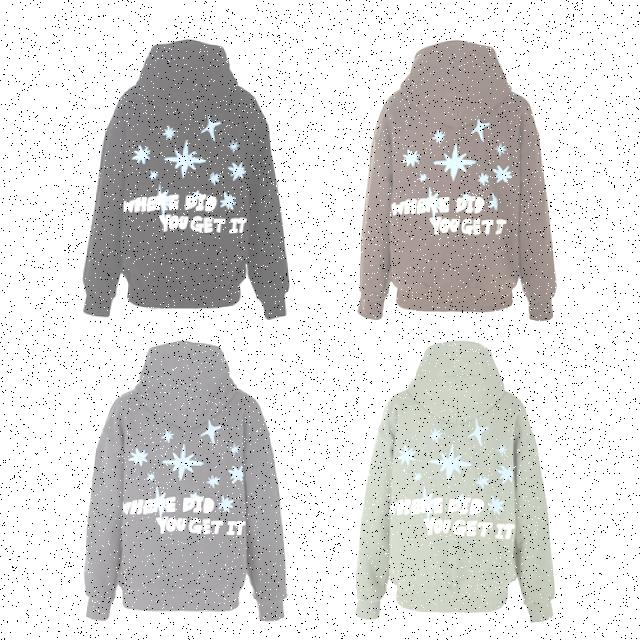dress: (64, 307, 302, 628), (68, 24, 305, 328), (340, 28, 566, 330), (340, 338, 572, 618)
